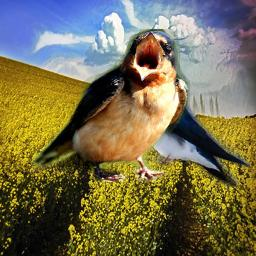Swallow: (31, 29, 190, 182), (136, 62, 250, 187)
